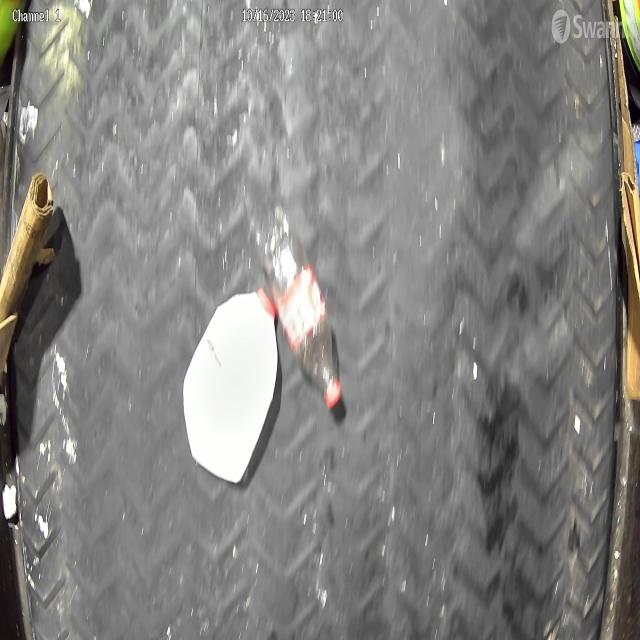milk_jug: (183, 287, 278, 483)
plastic_bottle: (264, 216, 342, 409)
